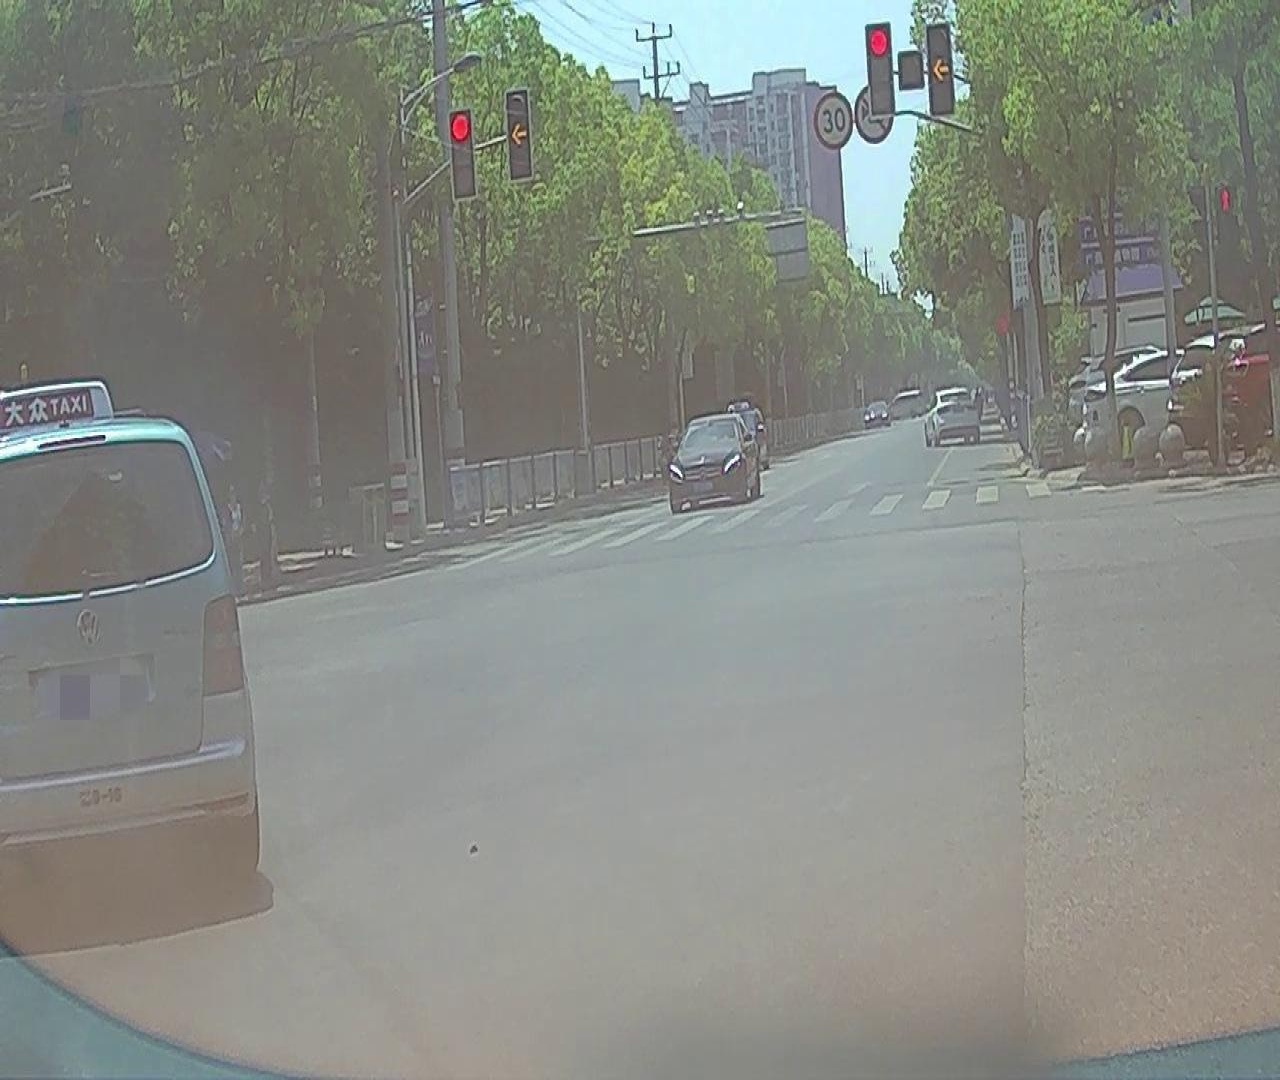red: (865, 24, 893, 117), (451, 109, 475, 196)
yellow: (507, 91, 532, 178), (929, 22, 953, 112)
